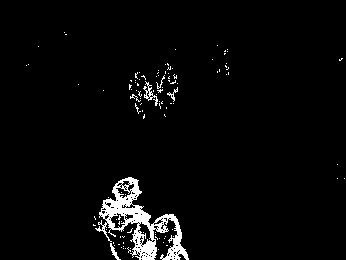person: (95, 173, 157, 260), (138, 214, 189, 260), (155, 62, 183, 117), (127, 71, 156, 121)
